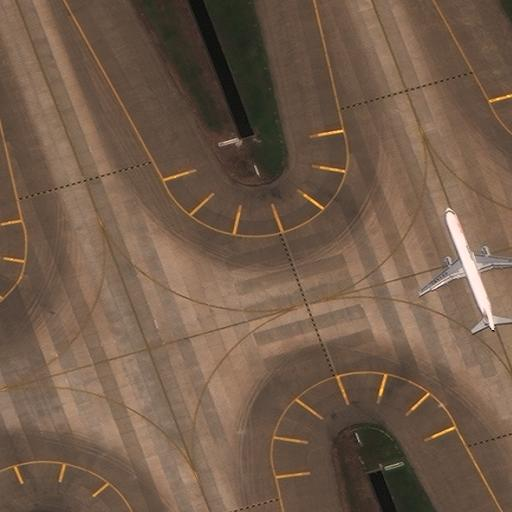Medium Civil Transport: (418, 208, 512, 331)
